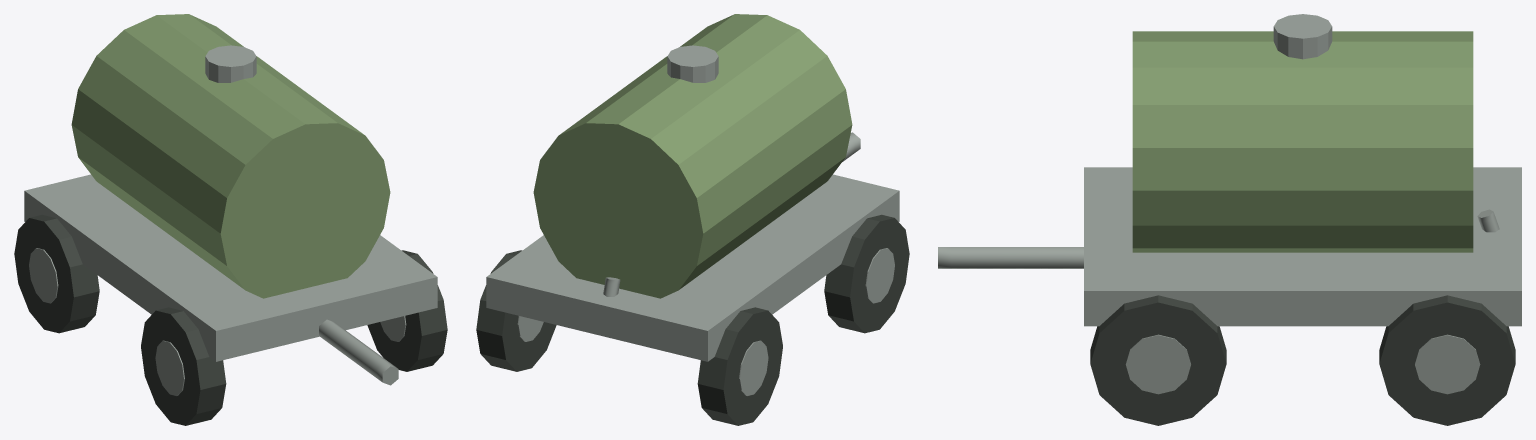
The model's file is zoo-and-safari-park-builder-water-bowser-40ab2bc1__21517.glb.
3 views of the same model, side by side, from view 1: azimuth 30°, elevation 25°; view 2: azimuth 150°, elevation 25°; view 3: azimuth 270°, elevation 25° (orthographic). The views are drawn at different scales.
Visible parts, largest first — view 1: water-bowser; view 2: water-bowser; view 3: water-bowser.
Part boxes in pixels (<box>): water-bowser: <box>14,14,447,425</box>; water-bowser: <box>476,14,909,425</box>; water-bowser: <box>938,14,1521,425</box>.
Bounding box in the file's own units: 1.35 × 1.5 × 2.4.
